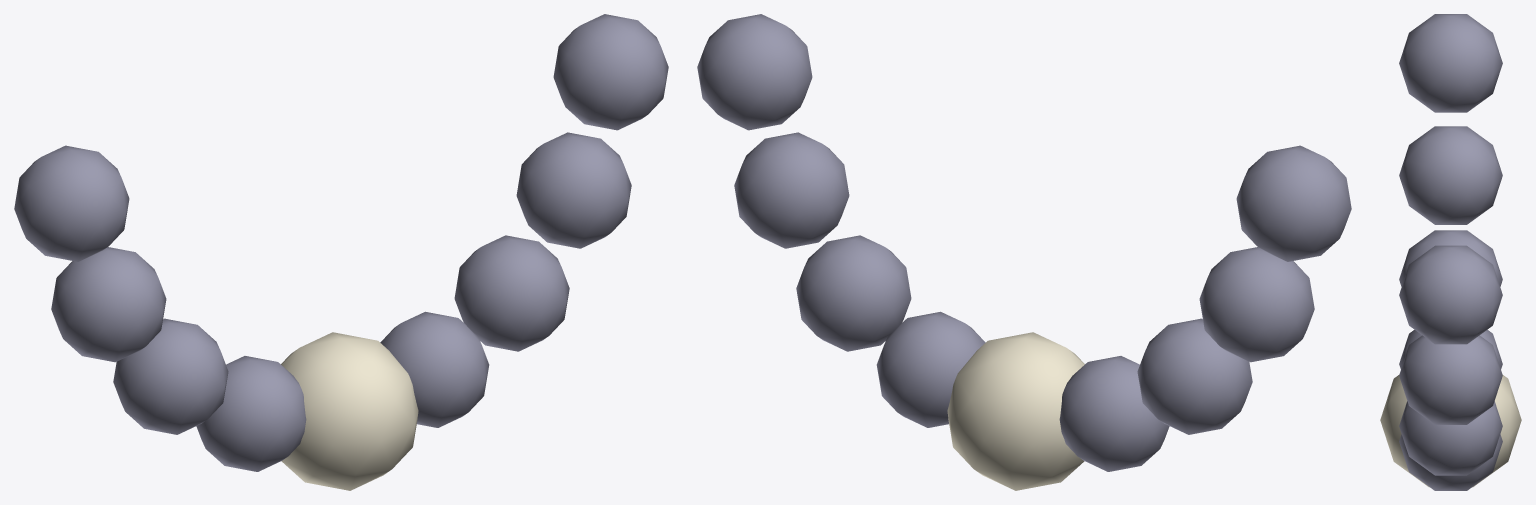
File: varanasi.glb
The picture shows the model from 3 angles, left to right: view 1: azimuth 30°, elevation 25°; view 2: azimuth 150°, elevation 25°; view 3: azimuth 270°, elevation 25°; orthographic projection. The views are drawn at different scales.
Parts seen in each view (by area): view 1: varanasi; view 2: varanasi; view 3: varanasi.
Part boxes in pixels (x1,y1,x2,y2): varanasi: [14, 14, 668, 490]; varanasi: [697, 14, 1351, 490]; varanasi: [1380, 14, 1521, 490].
Size of the model in its own units: 0.1372 by 0.0823 by 0.03.
